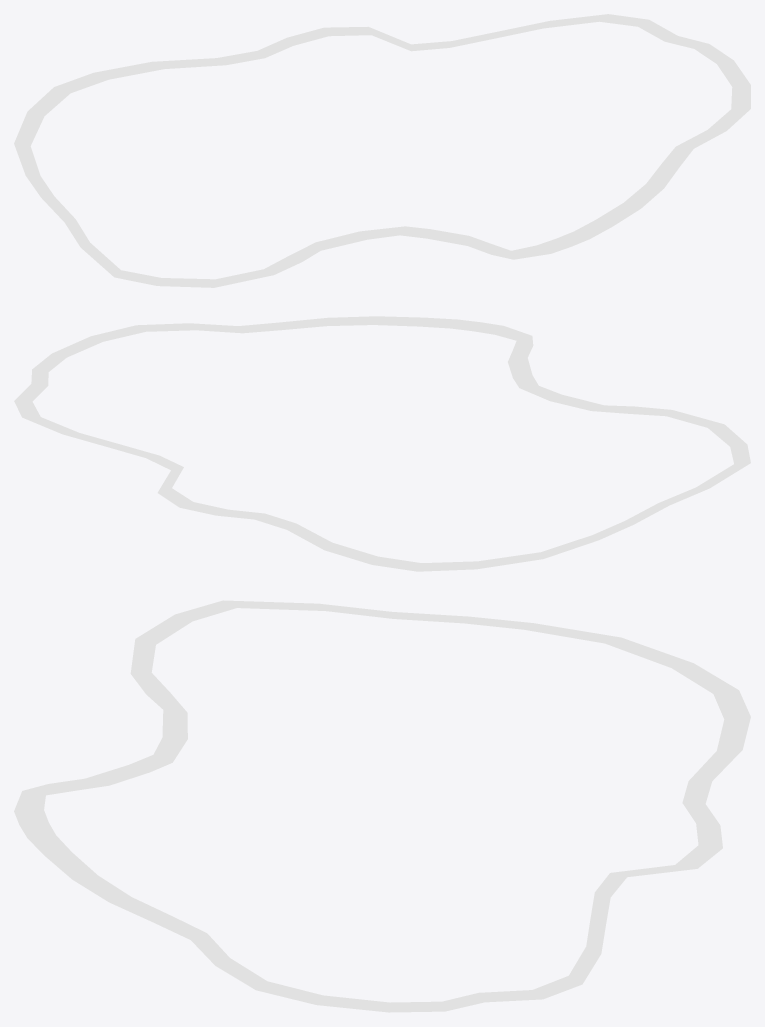
File: pir_m_are_isl_pvpFrench_wave_none.fbx
3 views of the same model, one above another, from view 1: azimuth 30°, elevation 25°; view 2: azimuth 150°, elevation 25°; view 3: azimuth 270°, elevation 25° (orthographic). The views are drawn at different scales.
Parts seen in each view (by area): view 1: mesh_tide2; view 2: mesh_tide2; view 3: mesh_tide2.
Boxes of the visible parts, bbox=[...] form: mesh_tide2: bbox=[14, 14, 750, 287]; mesh_tide2: bbox=[14, 316, 750, 571]; mesh_tide2: bbox=[14, 600, 750, 1012].
Size of the model in its own units: 94310 by 10.01 by 71305.
Materials: 1 (1 with a texture image).
